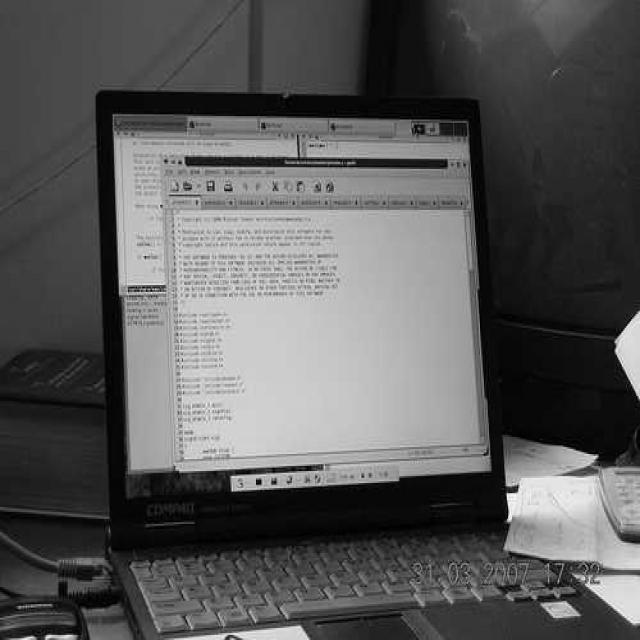laptop: (100, 92, 476, 640)
